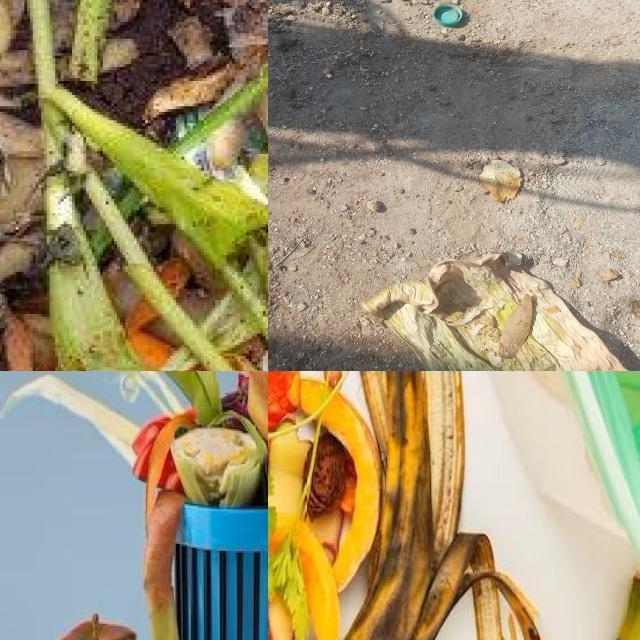Background: (268, 0, 640, 371)
Garbage: (268, 371, 562, 640), (0, 371, 268, 640)
Plastic: (432, 4, 462, 26)
